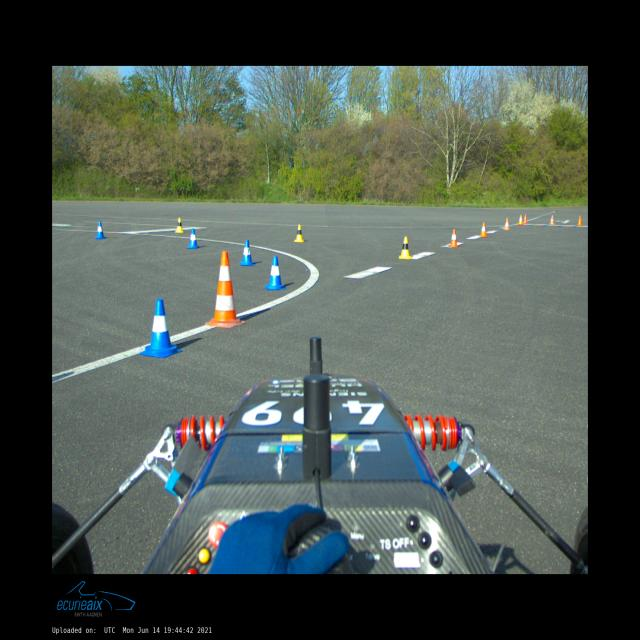blue_cone: (140, 298, 183, 358), (264, 256, 287, 290), (239, 240, 255, 265), (187, 228, 199, 248), (95, 222, 106, 239)
large_orange_cone: (205, 252, 246, 328)
orange_cone: (449, 229, 459, 247), (480, 223, 488, 237), (504, 218, 510, 230), (577, 216, 583, 226), (518, 214, 523, 224), (523, 214, 528, 223), (550, 216, 554, 224)
yellow_cone: (399, 237, 411, 260), (294, 225, 304, 242), (175, 218, 184, 232)
